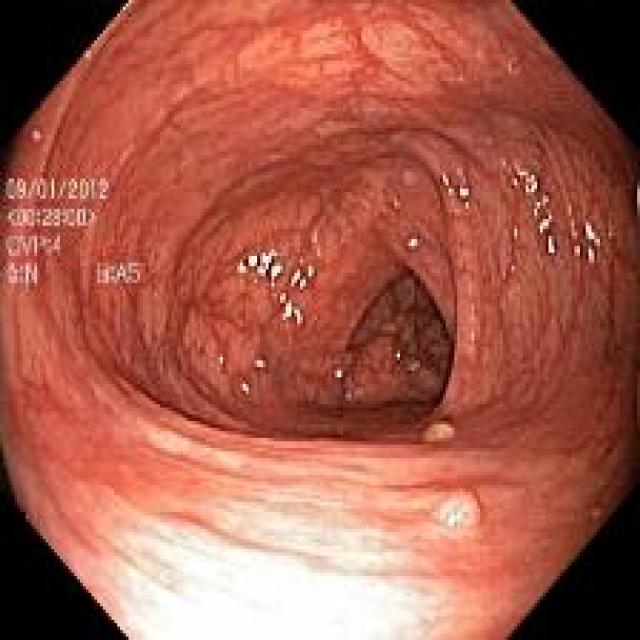Polyps: (432, 492, 481, 530), (422, 421, 455, 443)
